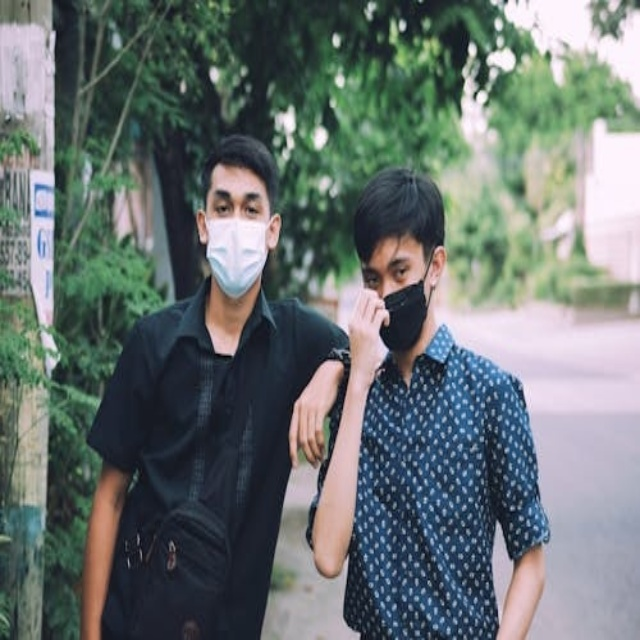Mascara: (378, 250, 436, 351), (204, 213, 270, 298)
Sin_gafas: (366, 250, 413, 283), (209, 185, 266, 211)
Sin_guantes: (287, 359, 343, 470), (344, 286, 392, 373)
